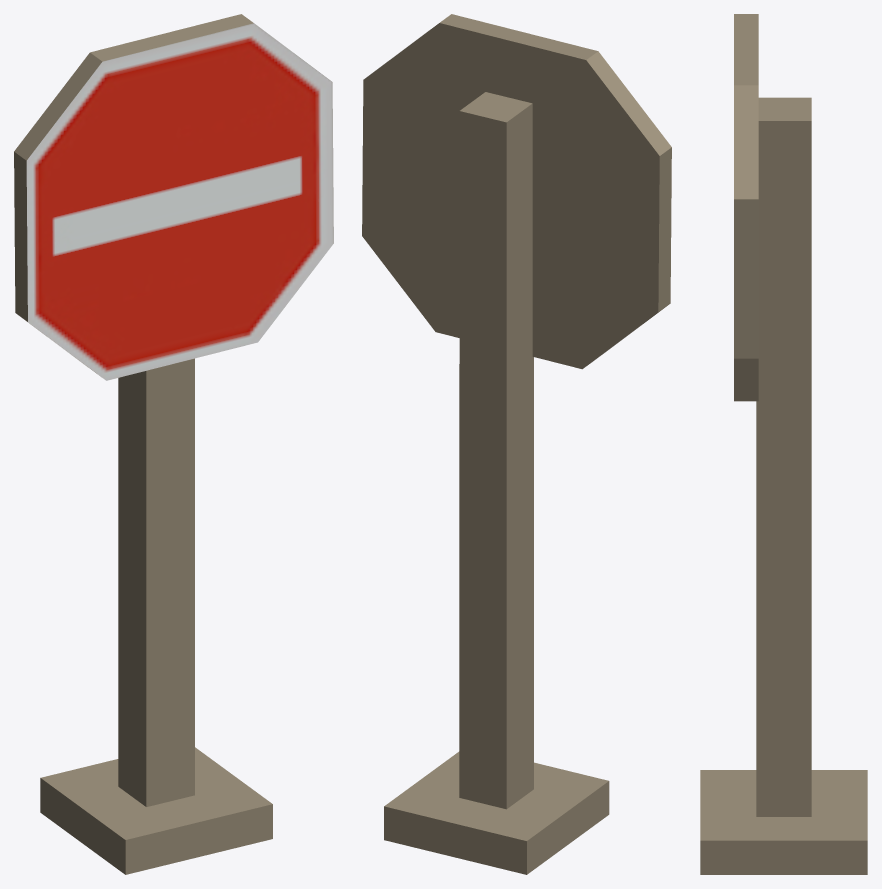
File: StopSign.fbx
The picture shows the model from 3 angles, left to right: view 1: azimuth 30°, elevation 25°; view 2: azimuth 150°, elevation 25°; view 3: azimuth 270°, elevation 25°; orthographic projection. The views are drawn at different scales.
Parts seen in each view (by area): view 1: StopSign; view 2: StopSign; view 3: StopSign.
Boxes of the visible parts, x1,y1,x2,y2 form: StopSign: [14, 14, 333, 874]; StopSign: [362, 14, 671, 874]; StopSign: [700, 14, 867, 874].
Size of the model in its own units: 60.32 by 151 by 28.92.
